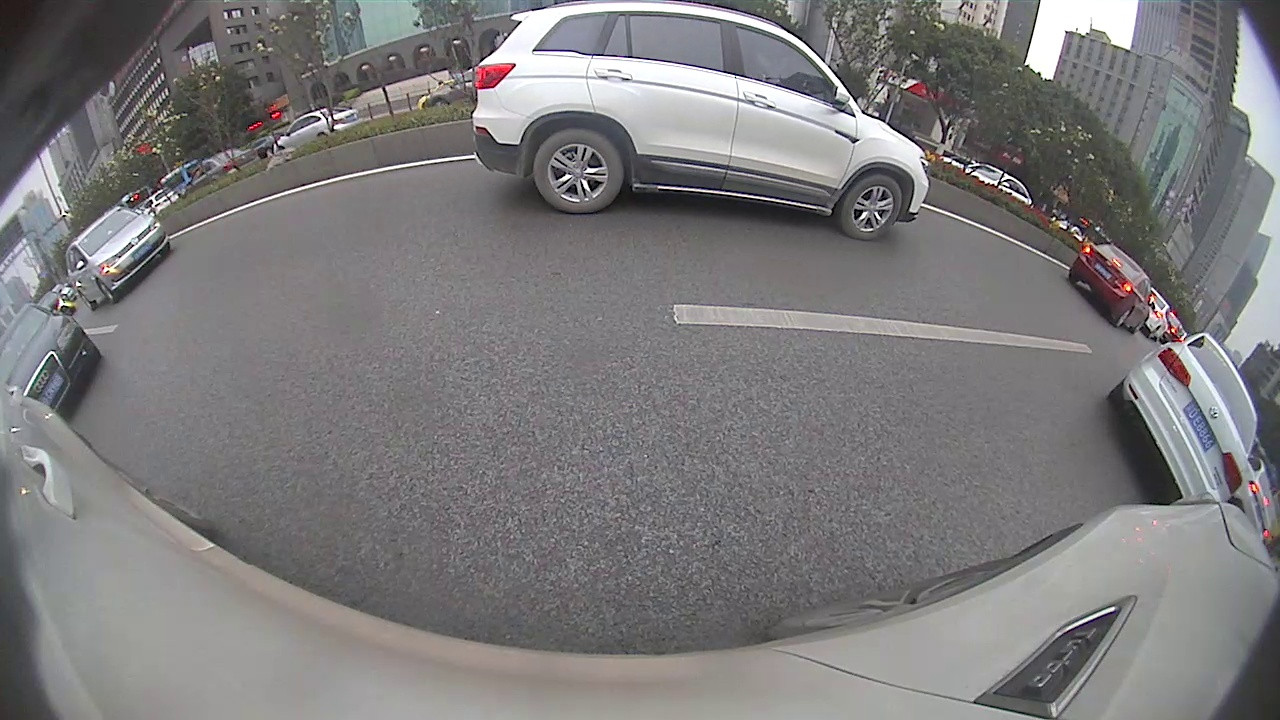car: (469, 0, 932, 242), (1108, 333, 1260, 508), (2, 301, 101, 417), (63, 205, 169, 312), (1068, 243, 1158, 333), (273, 104, 361, 154)
front: (840, 178, 906, 238)
rear: (533, 127, 625, 212), (1111, 306, 1134, 330)
